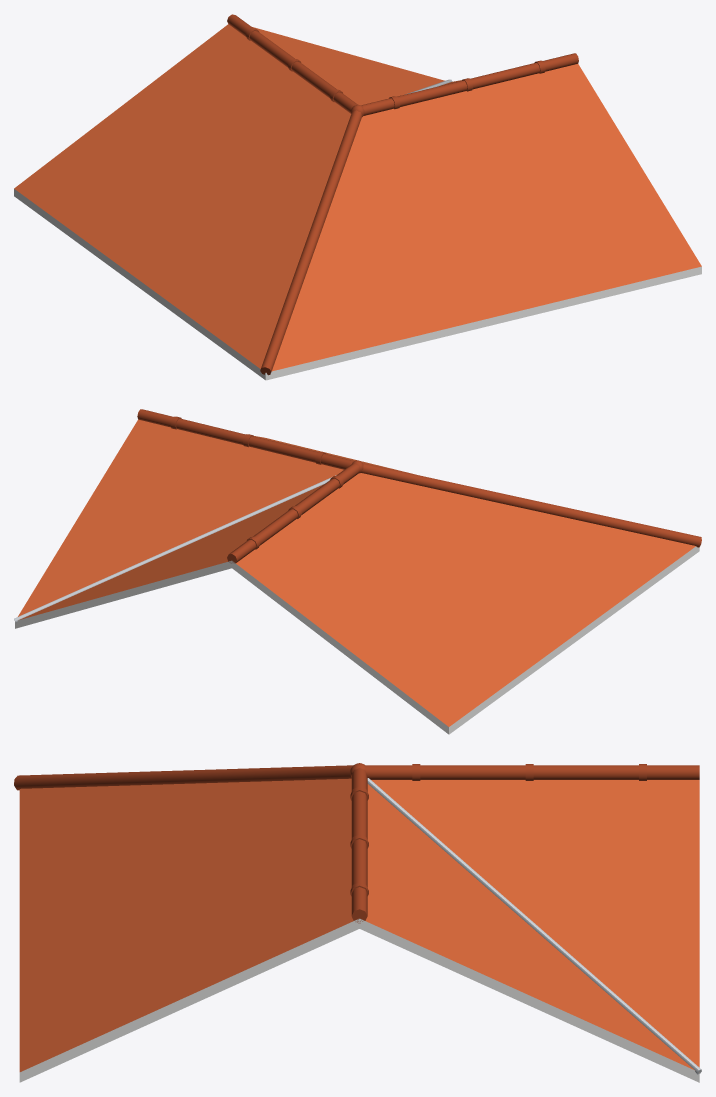
The model's file is telhado_canto_l_v6_i50.glb.
3 renders of one model, top to bottom at view 1: azimuth 30°, elevation 25°; view 2: azimuth 150°, elevation 25°; view 3: azimuth 270°, elevation 25°, orthographic. The views are drawn at different scales.
Parts seen in each view (by area): view 1: telhado_canto_l_v6_i50; view 2: telhado_canto_l_v6_i50; view 3: telhado_canto_l_v6_i50.
Boxes of the visible parts, x1=… form: telhado_canto_l_v6_i50: x1=14, y1=14, x2=701, y2=380; telhado_canto_l_v6_i50: x1=14, y1=409, x2=701, y2=734; telhado_canto_l_v6_i50: x1=14, y1=763, x2=701, y2=1082.
Size of the model in its own units: 6.07 by 1.71 by 6.07.
Materials: 4 (1 with a texture image).
